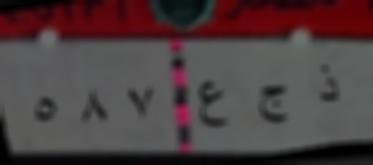5: (30, 89, 62, 127)
7: (122, 84, 163, 129)
8: (78, 88, 110, 130)
ain: (196, 75, 231, 134)
jeem: (253, 78, 292, 132)
zaal: (310, 62, 342, 108)
